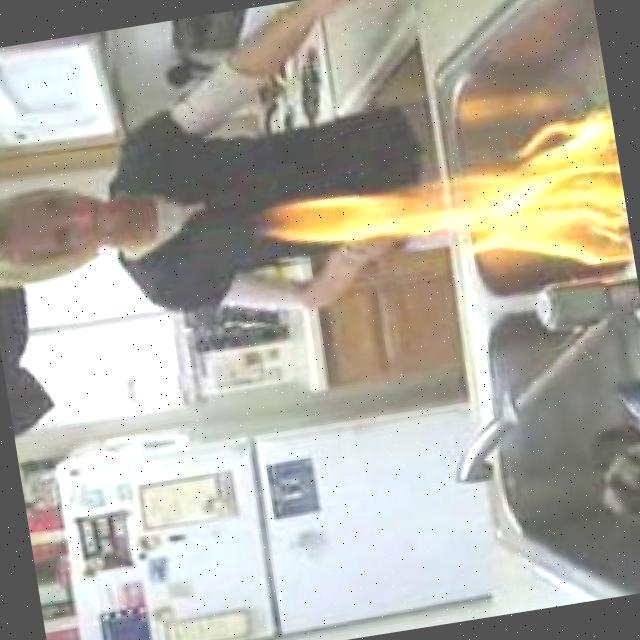fire: (246, 113, 635, 320)
